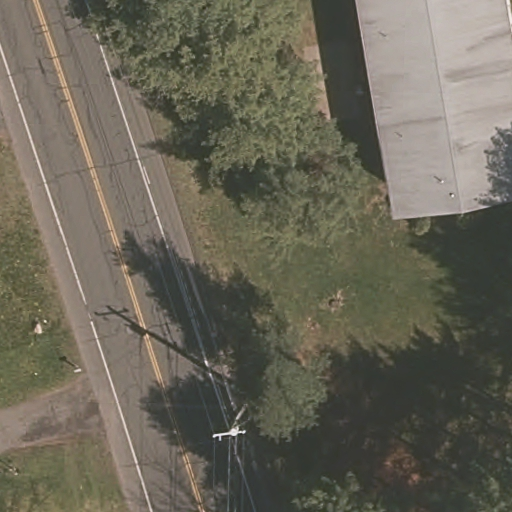DT: (200, 389, 256, 445)
